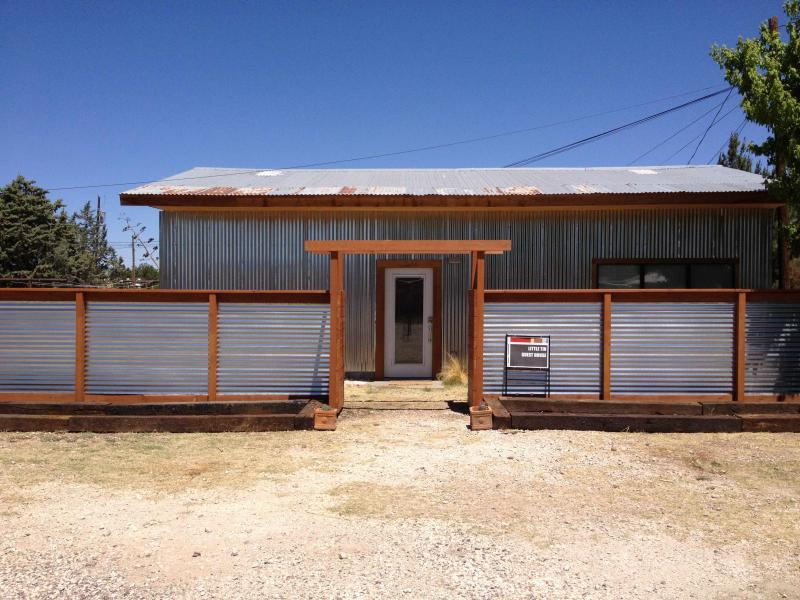Tin-shade House: (91, 150, 784, 421)
